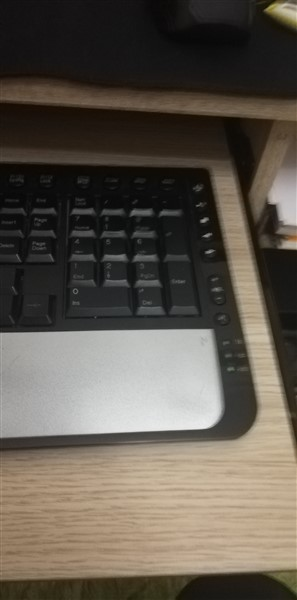klavye: (1, 162, 254, 449)
